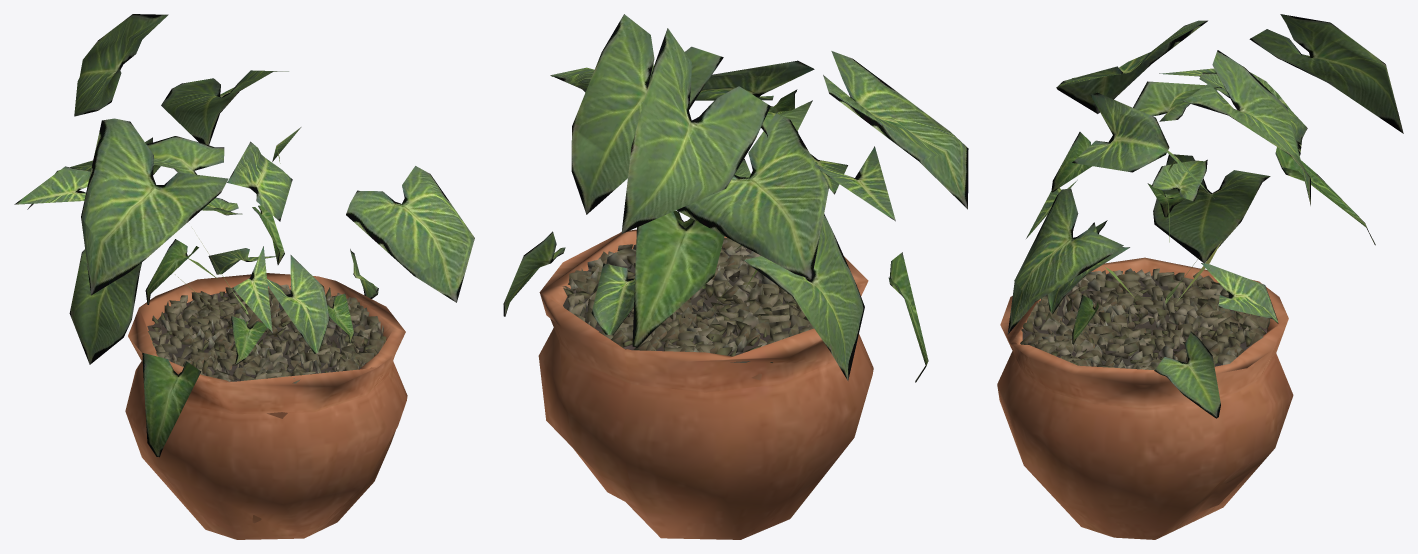
File: plant-low.glb
3 views of the same model, side by side, from view 1: azimuth 30°, elevation 25°; view 2: azimuth 150°, elevation 25°; view 3: azimuth 270°, elevation 25° (orthographic). The views are drawn at different scales.
Visible parts, largest first — view 1: potted_plant_02_leaves, potted_plant_02_pot; view 2: potted_plant_02_leaves, potted_plant_02_pot; view 3: potted_plant_02_pot, potted_plant_02_leaves.
Boxes of the visible parts, <box> form: potted_plant_02_leaves: <box>14,14,474,457</box>; potted_plant_02_pot: <box>125,273,407,539</box>; potted_plant_02_leaves: <box>503,14,968,382</box>; potted_plant_02_pot: <box>538,229,873,539</box>; potted_plant_02_pot: <box>997,257,1293,539</box>; potted_plant_02_leaves: <box>1007,14,1403,418</box>.
Size of the model in its own units: 0.6967 by 0.8395 by 0.6489.
2 materials, 2 textured.
